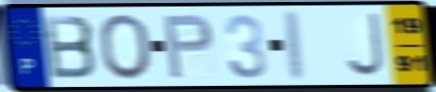3: (223, 12, 268, 80)
B: (41, 13, 100, 81)
I: (285, 8, 308, 83)
J: (342, 11, 386, 79)
O: (96, 12, 154, 82)
P: (161, 12, 216, 81)
